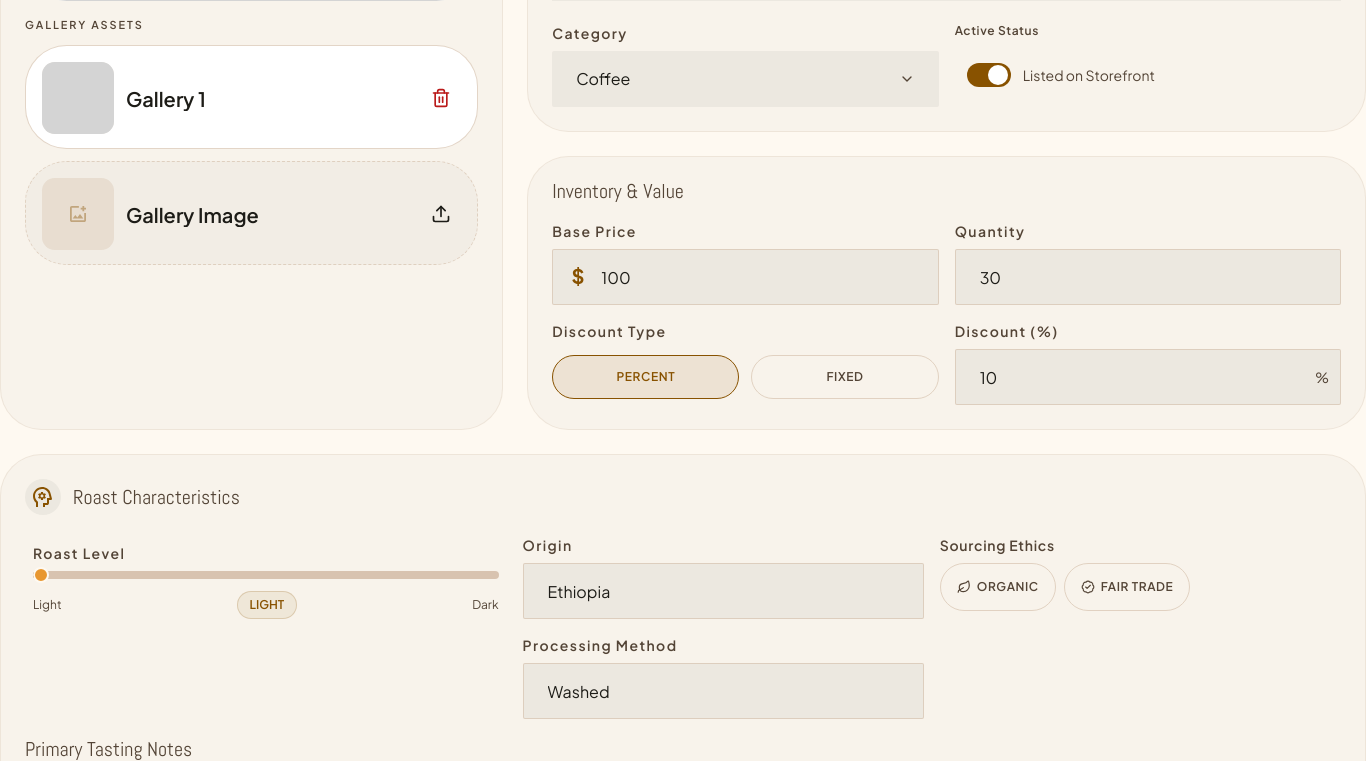
Test case: EditProductForm pricing › truncates Discount (%) 12.345 to 12.34
The width and height of the screenshot is (1366, 761).
(page scrolled)
Replace the text in the field labelled "Discount (%)" with "12.345". click: {"x": 1148, "y": 377}
box: [955,349,1341,405]
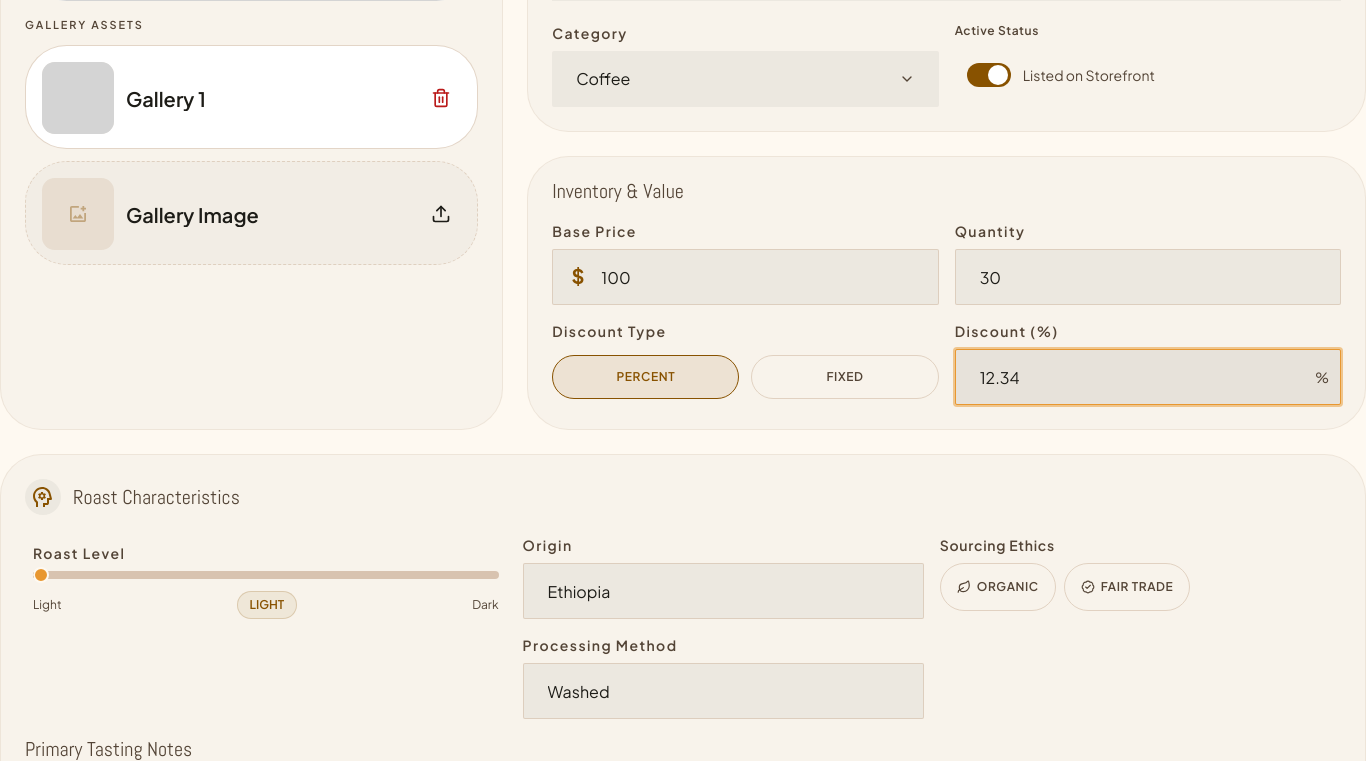
Now the field labelled "Discount (%)" holds "12.34", box [955,349,1341,405]
